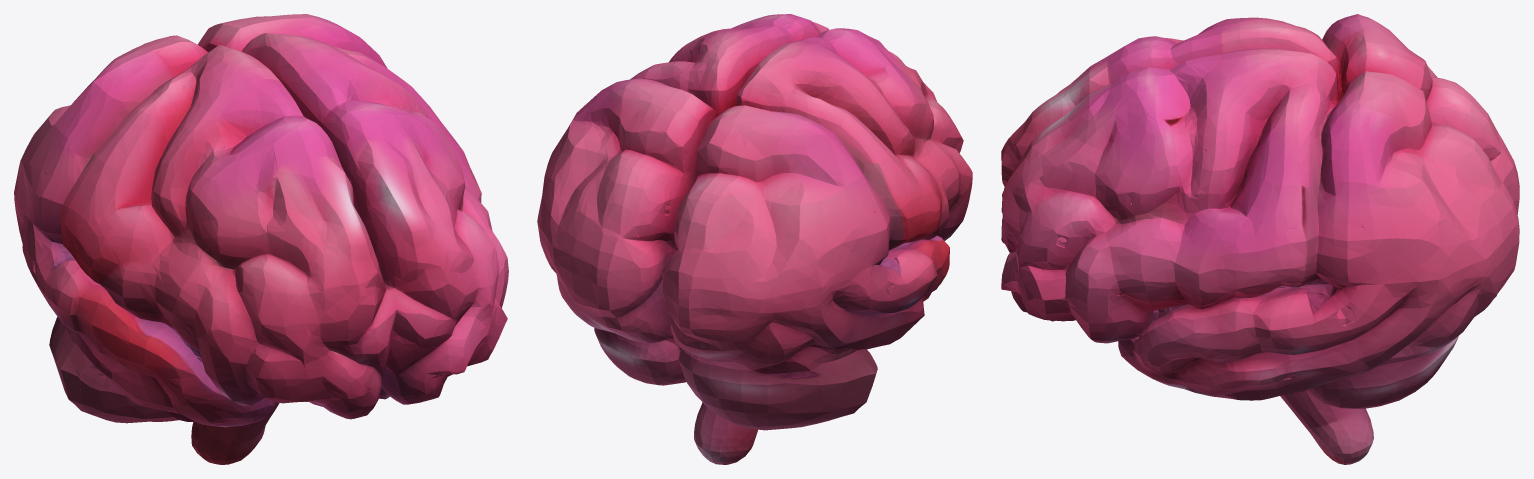
File: brain.glb
The picture shows the model from 3 angles, left to right: view 1: azimuth 30°, elevation 25°; view 2: azimuth 150°, elevation 25°; view 3: azimuth 270°, elevation 25°; orthographic projection. The views are drawn at different scales.
Visible parts, largest first — view 1: world; view 2: world; view 3: world.
Part boxes in pixels (<box>): world: <box>14,14,508,464</box>; world: <box>537,14,972,464</box>; world: <box>1001,14,1519,464</box>.
Bounding box in the file's own units: 1.16 × 1.22 × 1.35.
1 material, 1 textured.
